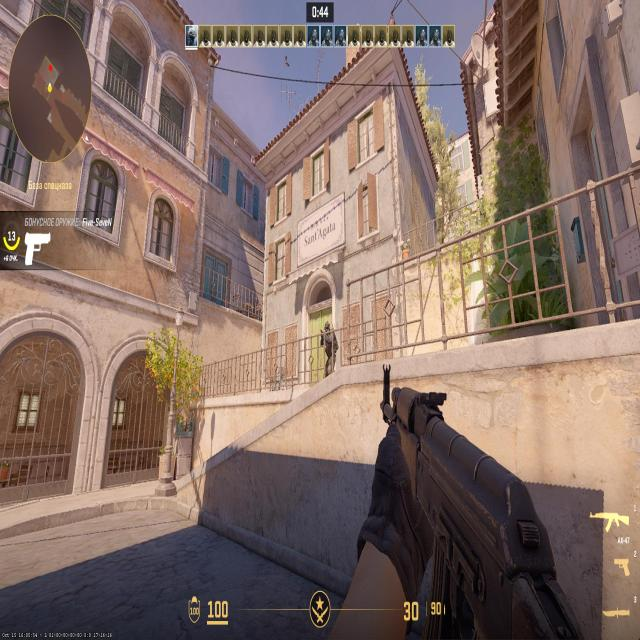CT: (321, 318, 336, 374)
CT_heat: (326, 325, 330, 330)
